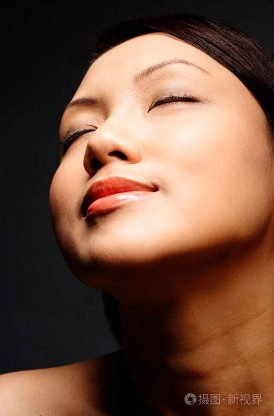闭眼: (135, 81, 212, 119), (59, 116, 100, 145)
